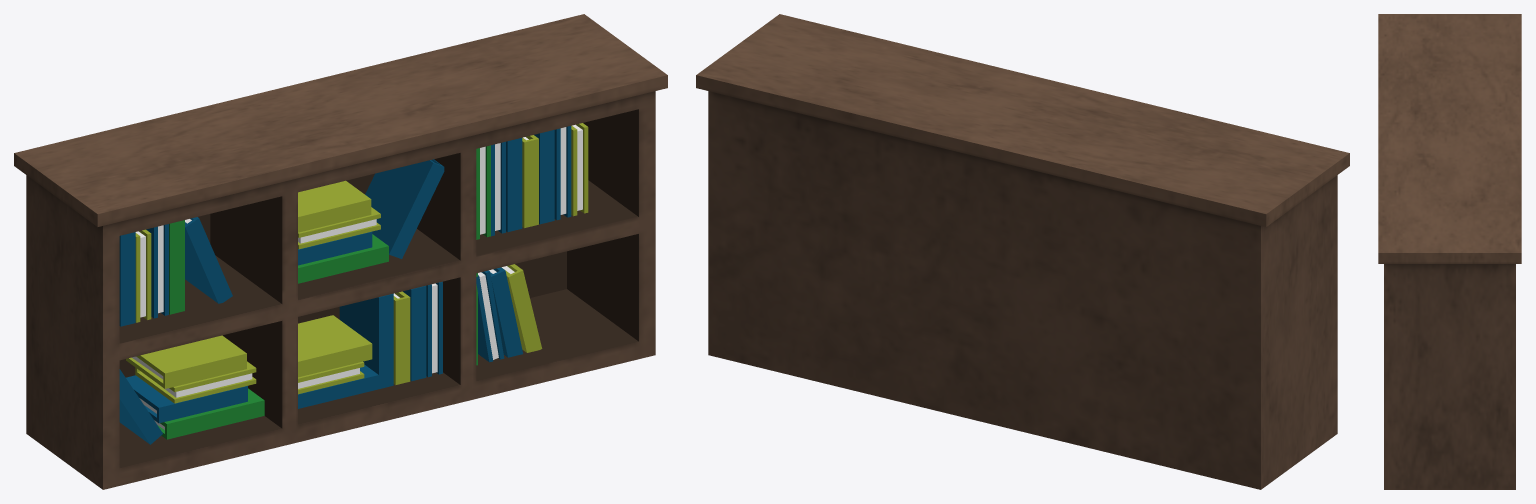
Rendered from Rak.fbx.
The picture shows the model from 3 angles, left to right: view 1: azimuth 30°, elevation 25°; view 2: azimuth 150°, elevation 25°; view 3: azimuth 270°, elevation 25°; orthographic projection. The views are drawn at different scales.
Parts seen in each view (by area): view 1: Plane.020, Plane.003, Plane.033, Plane.045, Plane.053, Plane.047, Plane.032, Plane.028, Plane.042, Plane.043, Plane.044, Plane.030 (+22 smaller); view 2: Plane.020, Plane.003; view 3: Plane.003, Plane.020.
Part boxes in pixels (x1,y1,x2,y2): Plane.020: (26,91,655,489); Plane.003: (14,14,667,226); Plane.033: (365,159,444,258); Plane.045: (126,335,246,388); Plane.053: (298,315,372,377); Plane.047: (339,293,393,388); Plane.032: (298,180,371,232); Plane.028: (185,217,232,303); Plane.042: (126,375,247,423); Plane.043: (154,388,264,439); Plane.044: (135,361,256,403); Plane.030: (298,234,388,283); Plane.020: (708,91,1337,489); Plane.003: (696,14,1349,226); Plane.003: (1378,14,1521,263); Plane.020: (1384,264,1515,489).
Size of the model in its own units: 224 by 105 by 56.75.
Materials: 1 (1 with a texture image).
